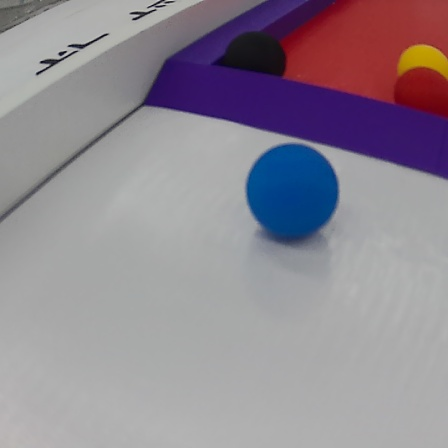black: (221, 34, 288, 80)
blue: (248, 139, 344, 242)
red_aim: (140, 2, 448, 178)
yellow: (397, 37, 448, 85)
